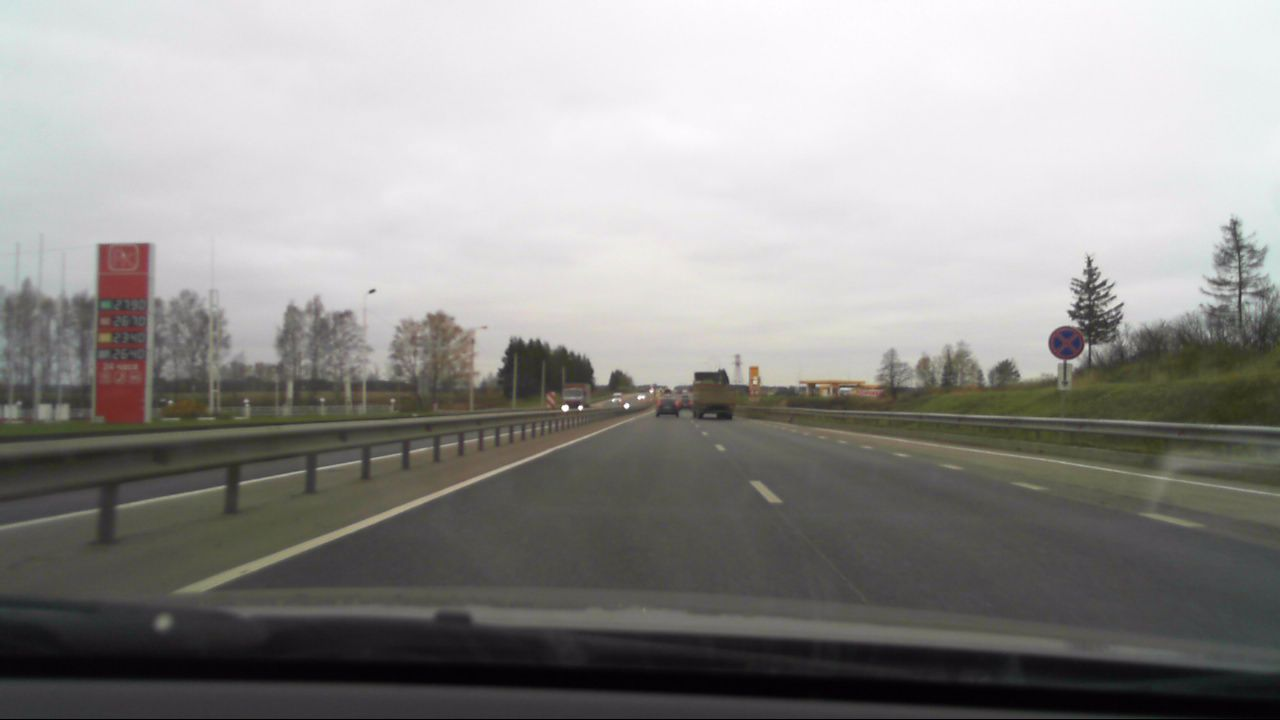No Parking: (1047, 323, 1085, 362)
